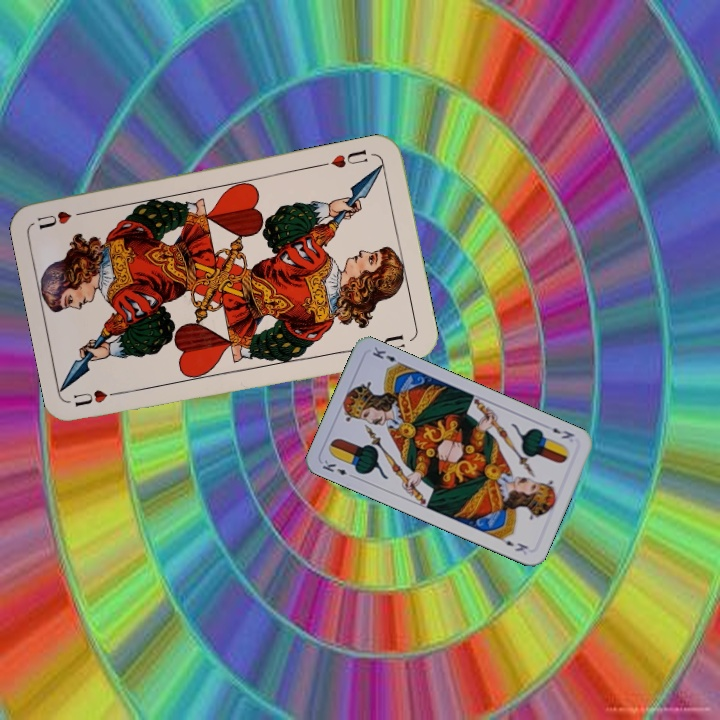EK: (318, 456, 358, 481), (548, 424, 577, 442)
HU: (69, 385, 128, 409), (318, 146, 370, 171)
